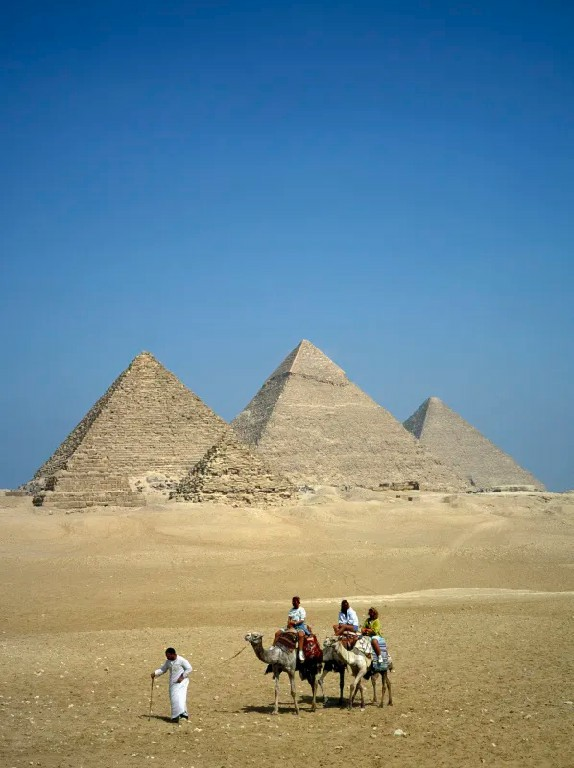Pyramid: (232, 340, 475, 495), (25, 353, 224, 494), (402, 397, 543, 491), (166, 431, 299, 505), (32, 454, 155, 511)
